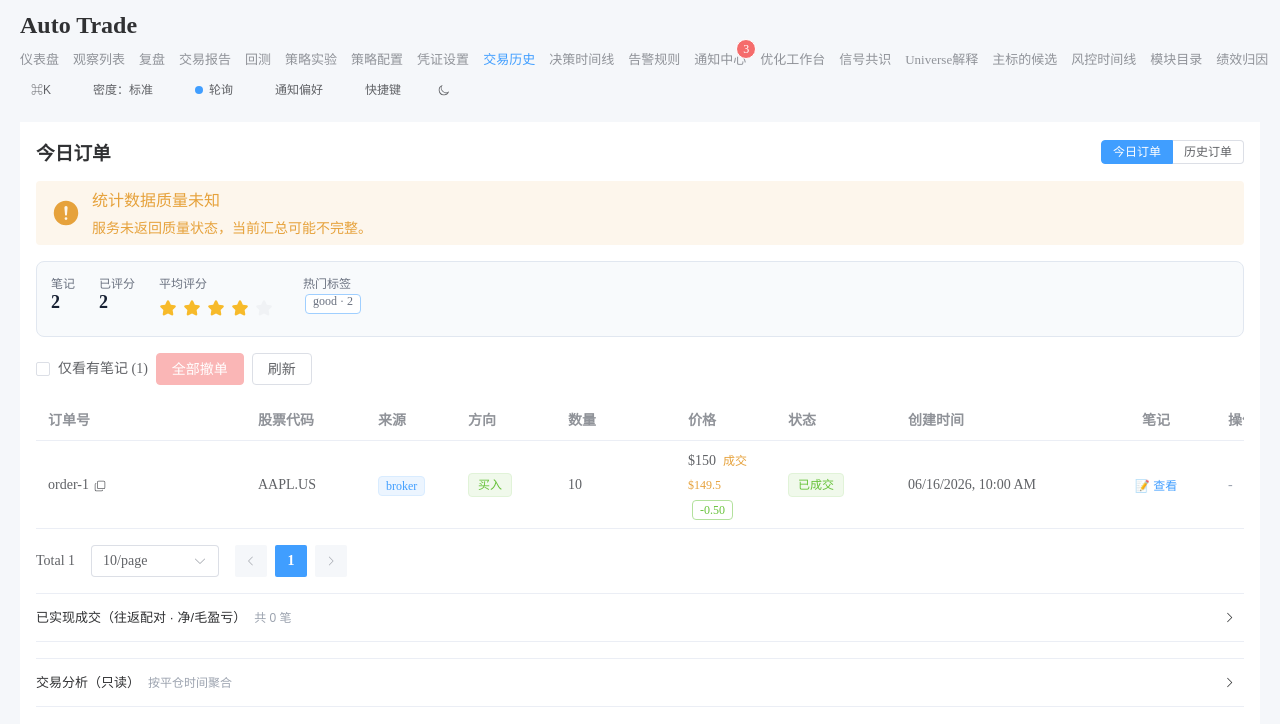
Closed round-trip trades › renders the trade-stats strip (win rate / streaks / expectancy)
Step 1. Click the button "已实现成交（往返配对 · 净/毛盈亏） 共 0 笔" → x=141, y=617, box [36,594,1244,642]
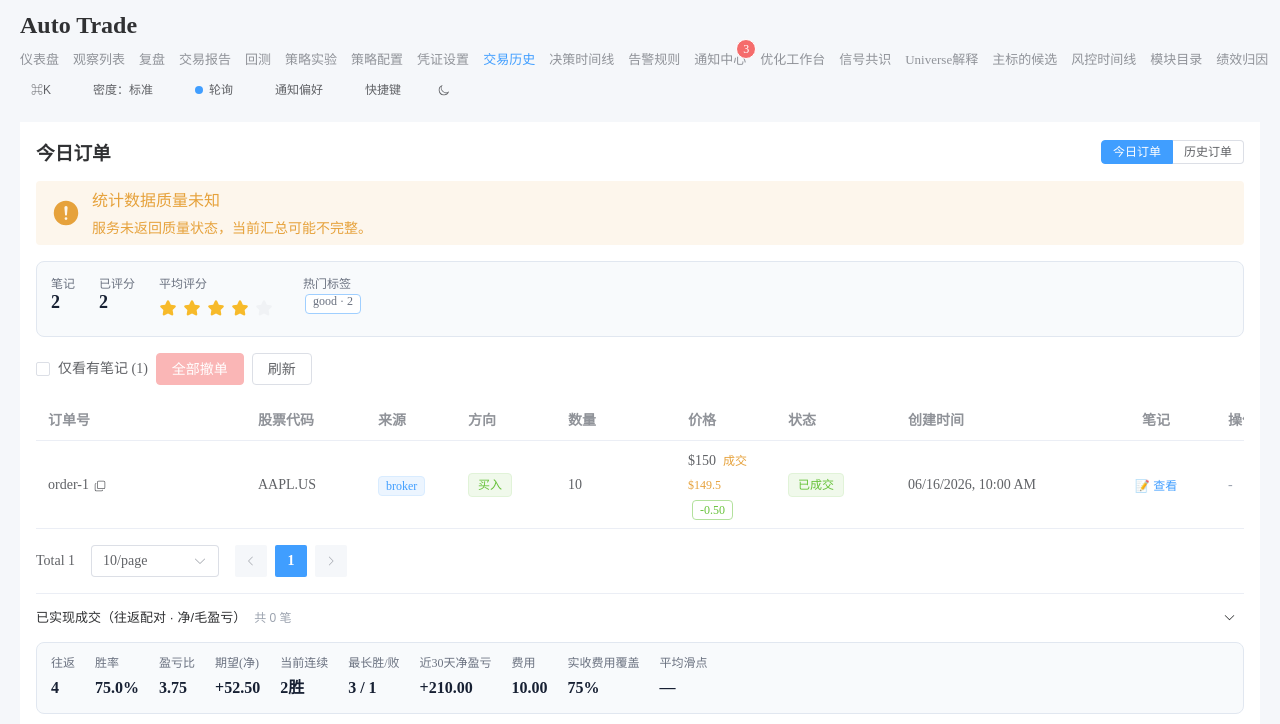
Now the element with test id "trade-stats" is shown, box [36,642,1244,714]
Now the text "75.0%" is shown, box [95,679,139,696]
Now the text "2胜" is shown, box [280,679,304,696]
